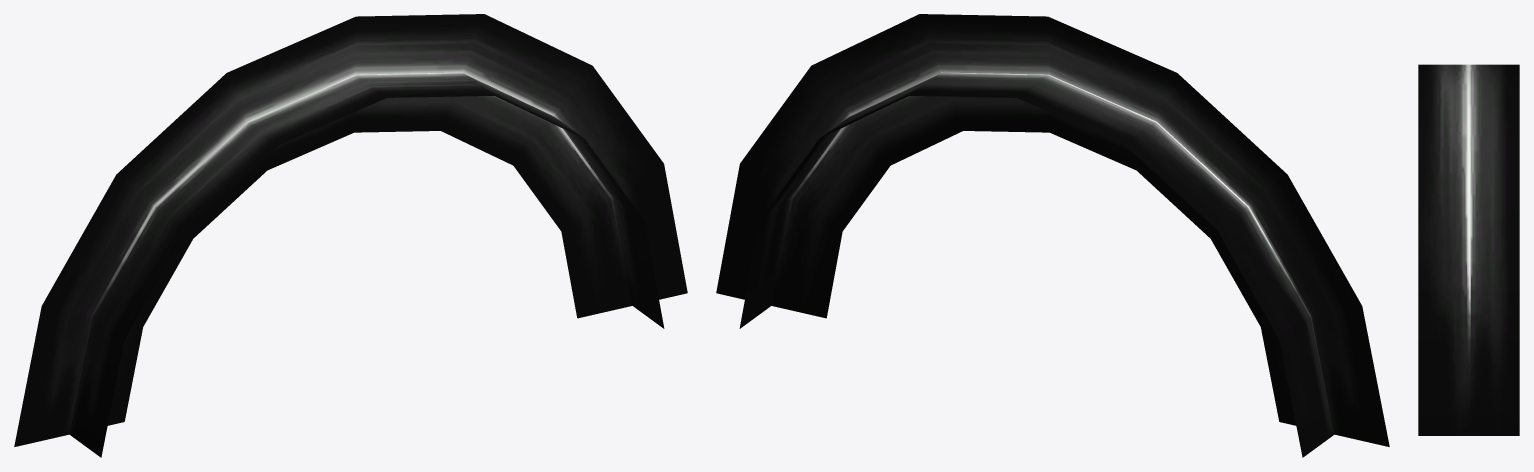
File: youyingguici_2.FBX
The picture shows the model from 3 angles, left to right: view 1: azimuth 30°, elevation 25°; view 2: azimuth 150°, elevation 25°; view 3: azimuth 270°, elevation 25°; orthographic projection. The views are drawn at different scales.
Visible parts, largest first — view 1: youyingguici_1; view 2: youyingguici_1; view 3: youyingguici_1.
Part boxes in pixels (x1,y1,x2,y2): youyingguici_1: (14, 14, 687, 457); youyingguici_1: (716, 14, 1389, 457); youyingguici_1: (1418, 64, 1519, 435).
Bounding box in the file's own units: 122 × 61.82 × 20.
